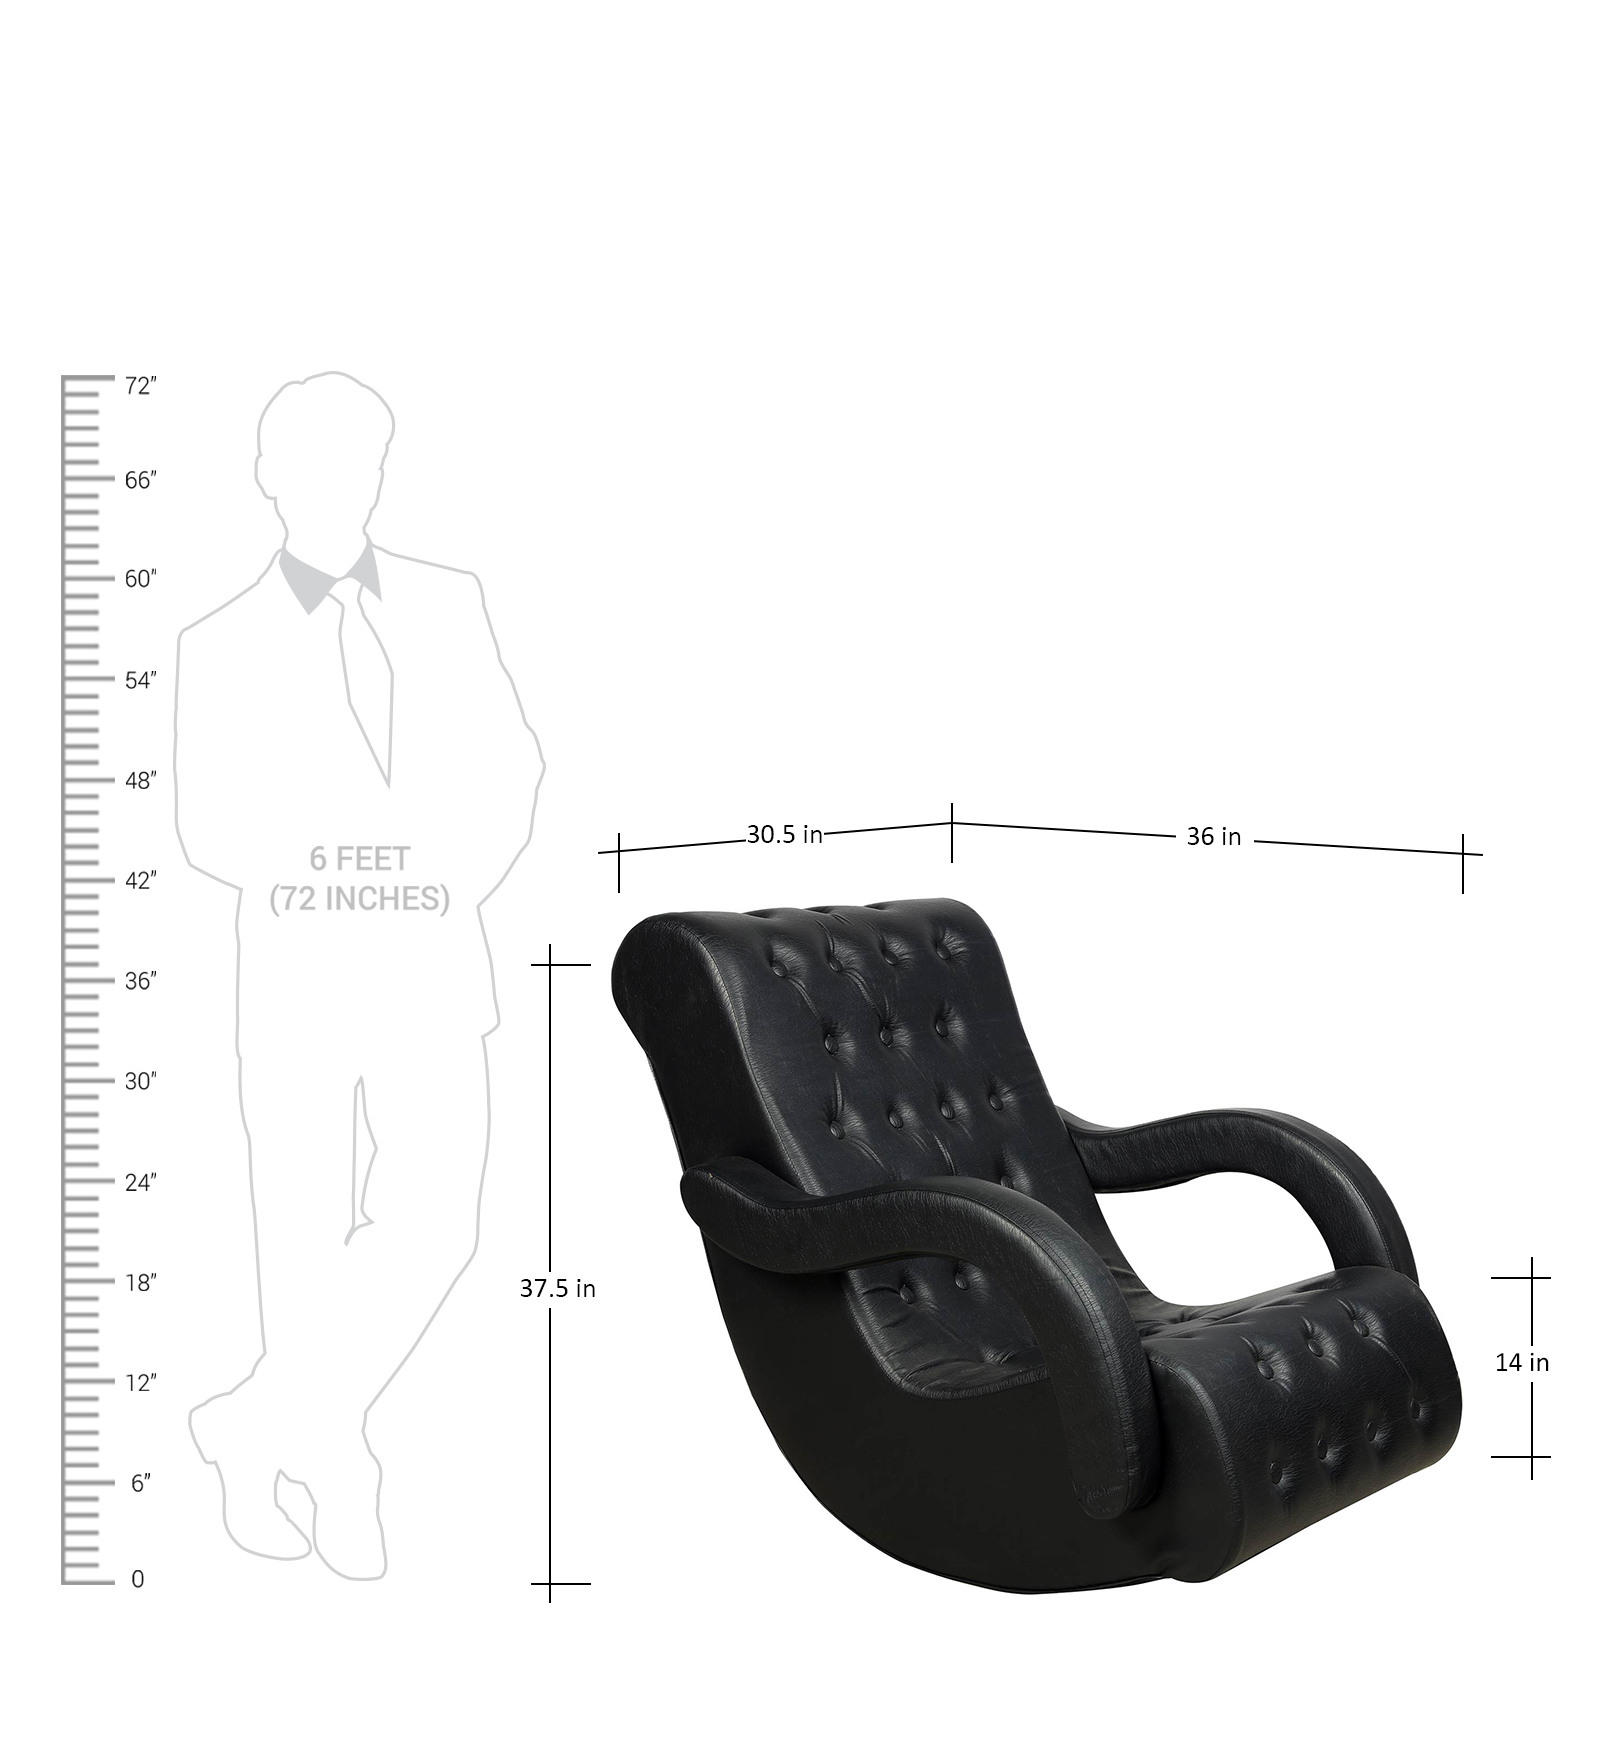Alex Low Seating Rocking Chair with Arm Rest in Black Colour by Parin: (592, 882, 1490, 1617)
